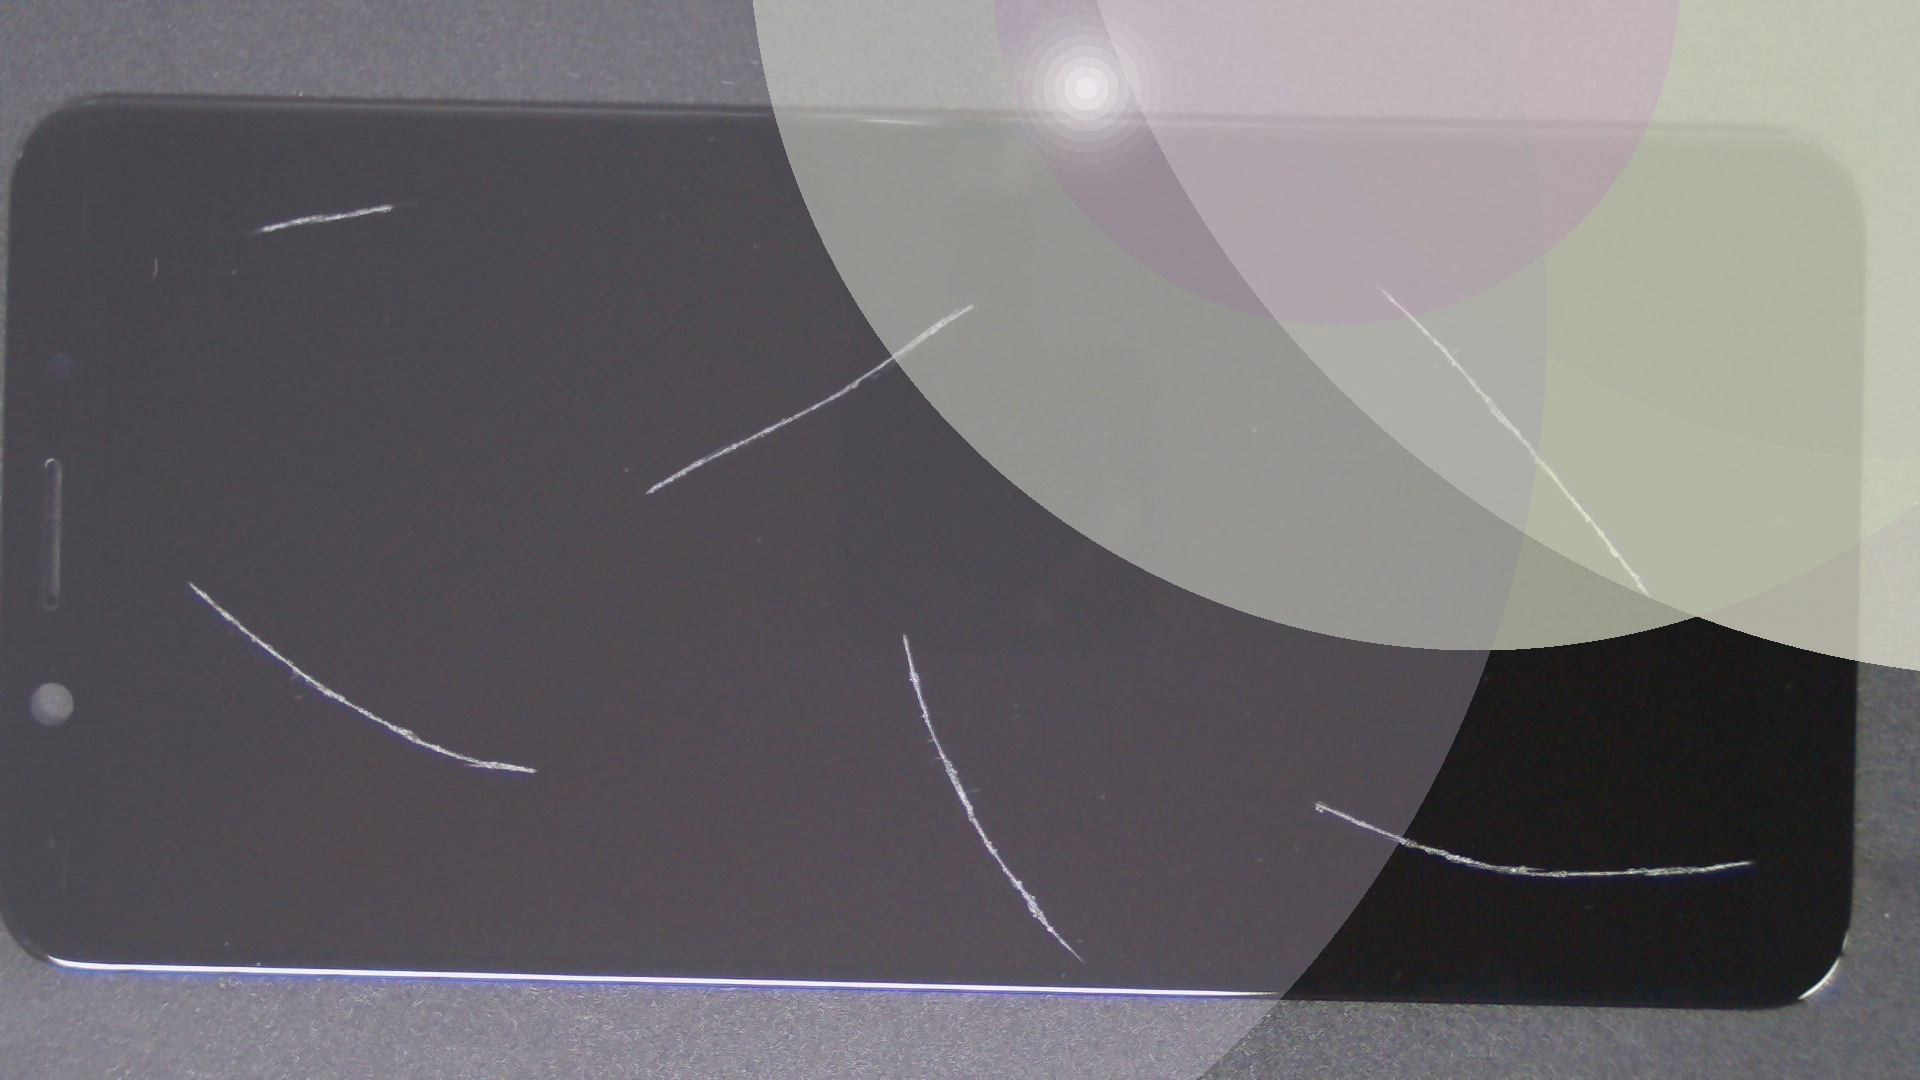oil: (659, 400, 1920, 1080), (451, 315, 1352, 951), (679, 133, 1920, 434), (484, 152, 1451, 458), (95, 290, 285, 872), (196, 102, 589, 305)
